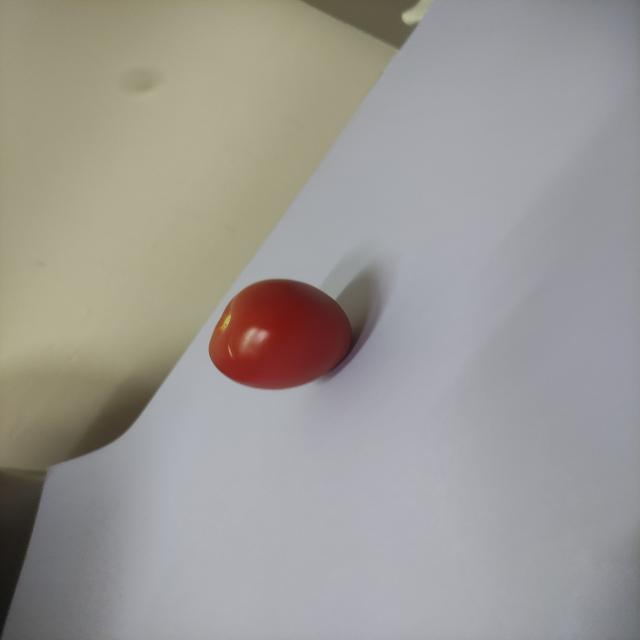kirmizi: (171, 263, 367, 390)
